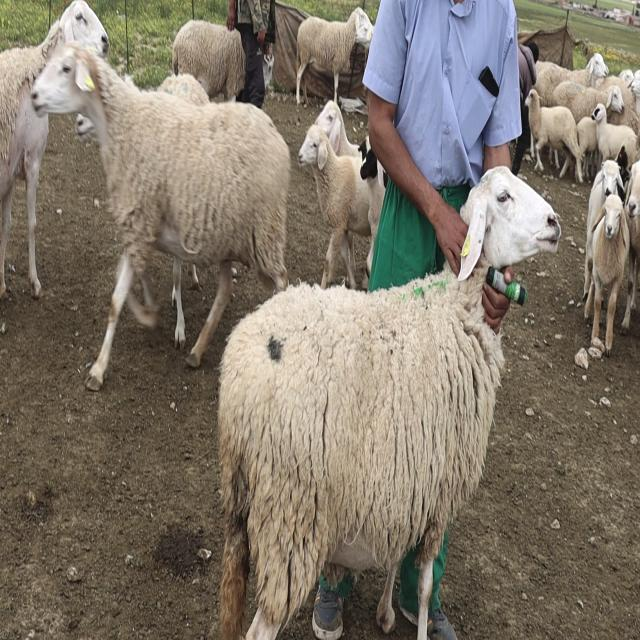Score_5: (217, 167, 561, 639)
